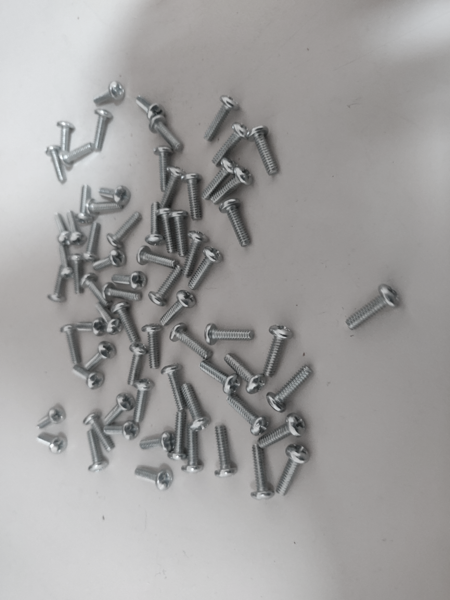shortscrew: (345, 285, 400, 331), (267, 365, 314, 413), (227, 393, 270, 437), (276, 444, 311, 497), (224, 352, 267, 395), (203, 95, 240, 143), (212, 123, 251, 167), (258, 414, 307, 449), (170, 323, 212, 362), (210, 167, 253, 205), (247, 126, 279, 177), (264, 324, 294, 378), (202, 159, 239, 201), (188, 247, 223, 291), (220, 199, 251, 248), (199, 360, 242, 395), (149, 265, 184, 307), (182, 382, 211, 432), (251, 445, 276, 501), (160, 290, 197, 327), (107, 212, 143, 250), (183, 231, 210, 279), (149, 115, 184, 152), (84, 412, 115, 453), (161, 365, 188, 412), (215, 425, 238, 479), (112, 302, 141, 344), (80, 272, 111, 308), (203, 324, 255, 345), (181, 173, 203, 222), (103, 393, 136, 425), (168, 412, 189, 462), (161, 166, 184, 210), (156, 208, 178, 254), (86, 430, 110, 472), (84, 342, 117, 372), (181, 431, 204, 474), (169, 211, 190, 258), (132, 379, 154, 423), (96, 302, 124, 336), (137, 246, 180, 268), (142, 324, 162, 369), (59, 142, 95, 167), (135, 469, 174, 492), (60, 324, 81, 366), (153, 147, 172, 192), (93, 80, 127, 105), (71, 365, 105, 390), (93, 109, 113, 151), (128, 343, 148, 385), (145, 202, 164, 246), (82, 222, 102, 262), (46, 145, 67, 183), (102, 283, 141, 303), (140, 432, 176, 453), (92, 249, 126, 271), (112, 271, 148, 291), (104, 421, 139, 441), (135, 96, 164, 120), (37, 407, 65, 431), (67, 211, 86, 246), (68, 254, 84, 295), (48, 265, 65, 303), (99, 186, 131, 206), (76, 184, 92, 224), (37, 434, 68, 454), (56, 121, 75, 153), (54, 213, 72, 245), (77, 318, 107, 336), (58, 245, 74, 278)
